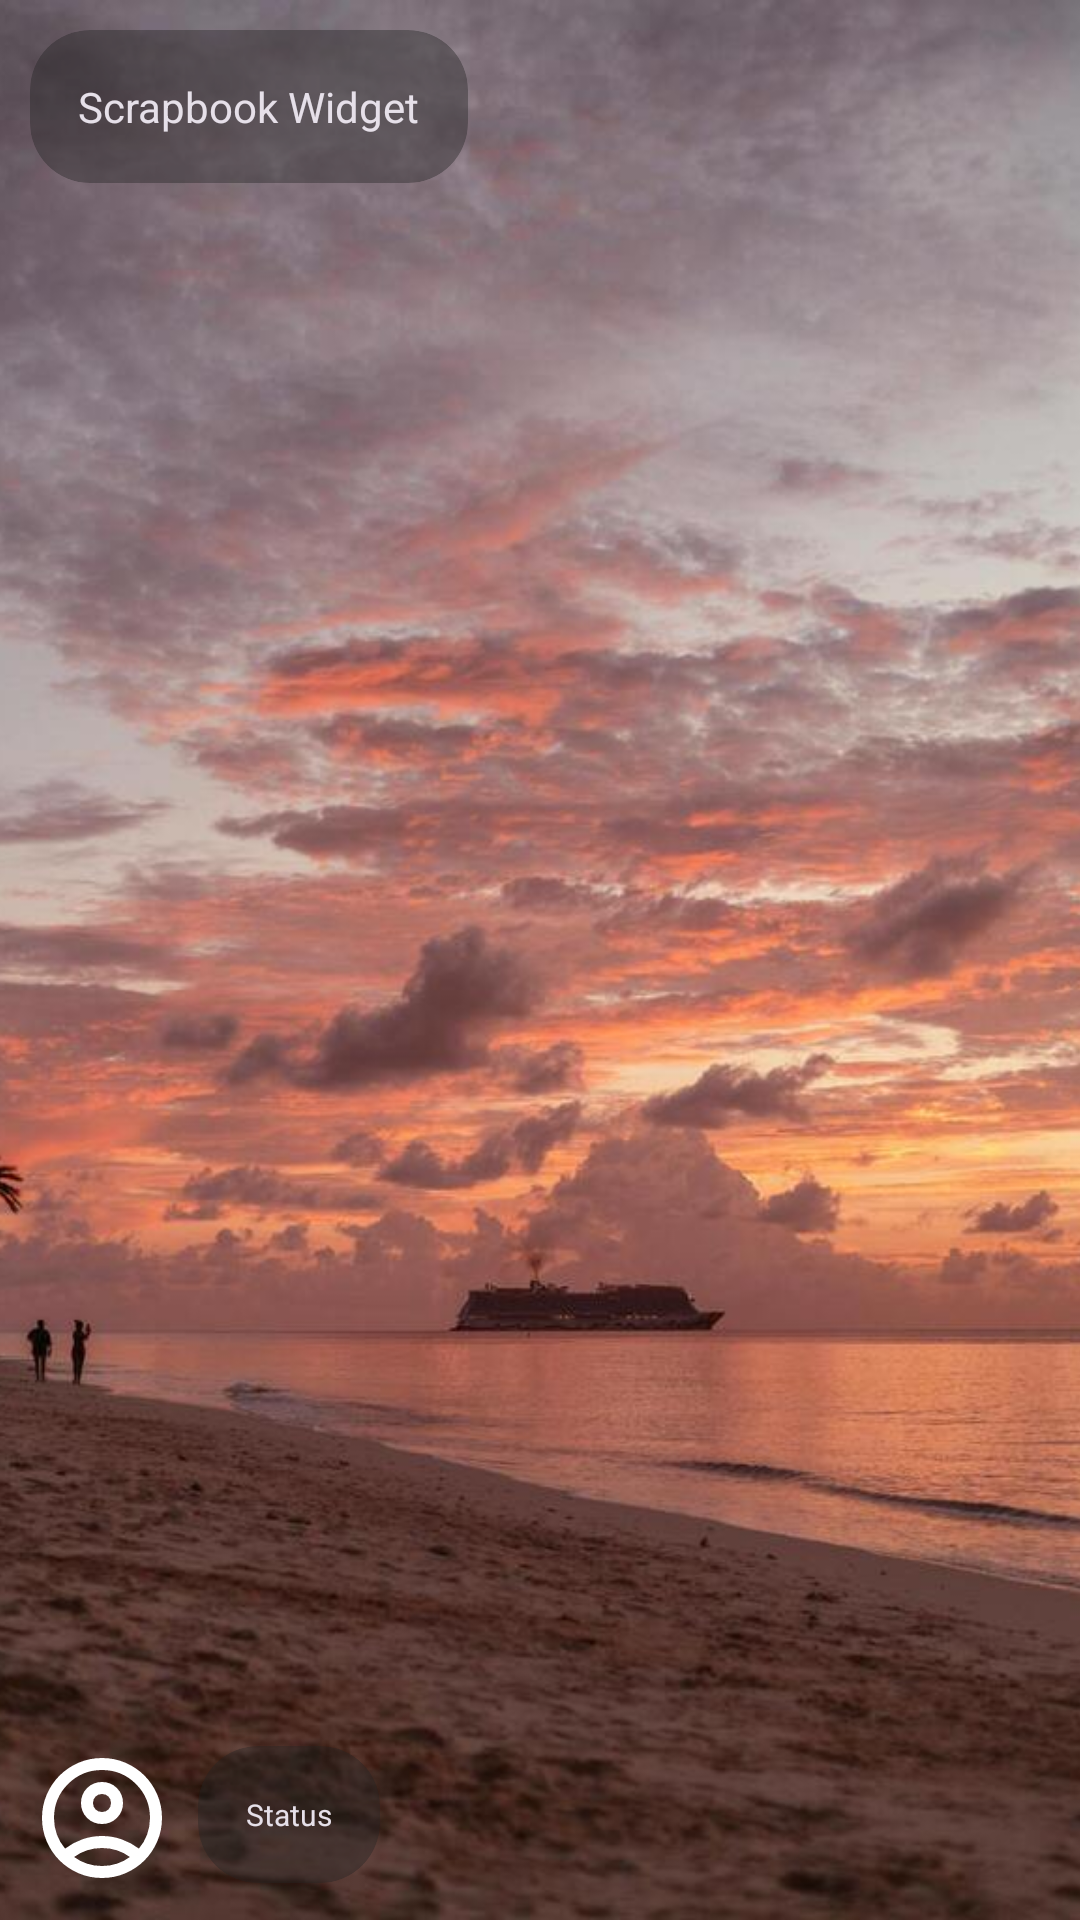

Icon click points for this 1080×1920 phone screenshot, format [x,y]:
account circle: [102,1818]
